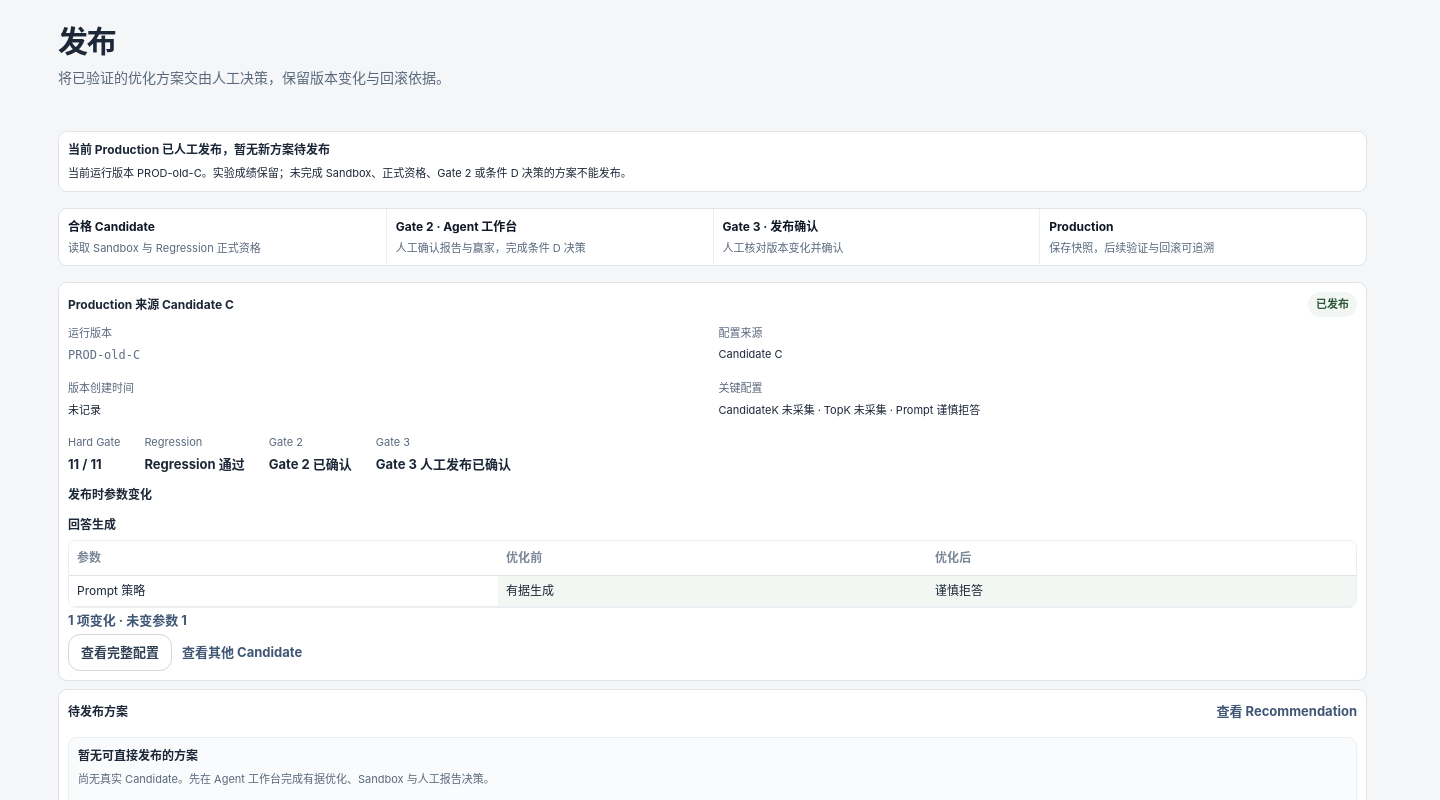
Test: shows only changed parameters on the release main screen and opens full configuration in a Drawer
This screenshot has width=1440, height=800.
Expected: the element with class "release-decision" shows "有据生成", [506,583,554,598]
Expected: the element with class "release-decision" shows "谨慎拒答", [936,403,980,417]
Click the button "查看完整配置" at {"x": 120, "y": 653}, box [68,634,172,671]
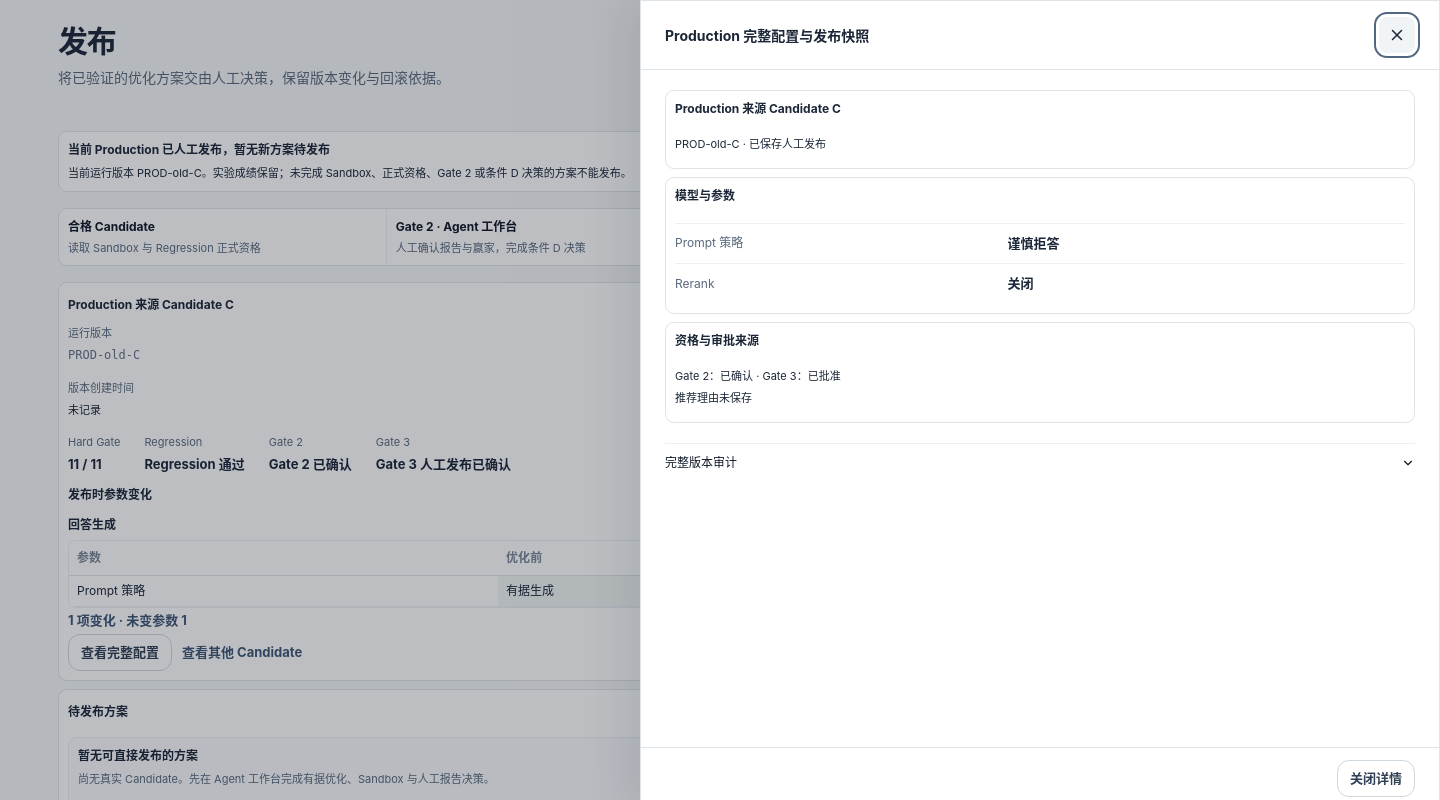
Expected: the dialog with class "drawer" shows "Rerank", [675,276,714,291]
